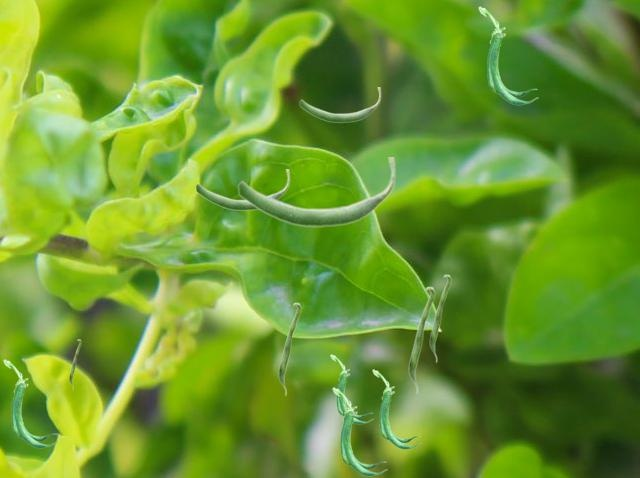french_bean: (237, 157, 395, 227), (478, 6, 537, 104), (3, 359, 57, 447), (332, 387, 386, 475), (195, 169, 289, 210), (372, 369, 420, 448), (330, 354, 372, 423), (299, 87, 380, 122), (408, 286, 434, 393), (278, 302, 300, 395), (429, 274, 450, 362), (69, 339, 80, 389)
